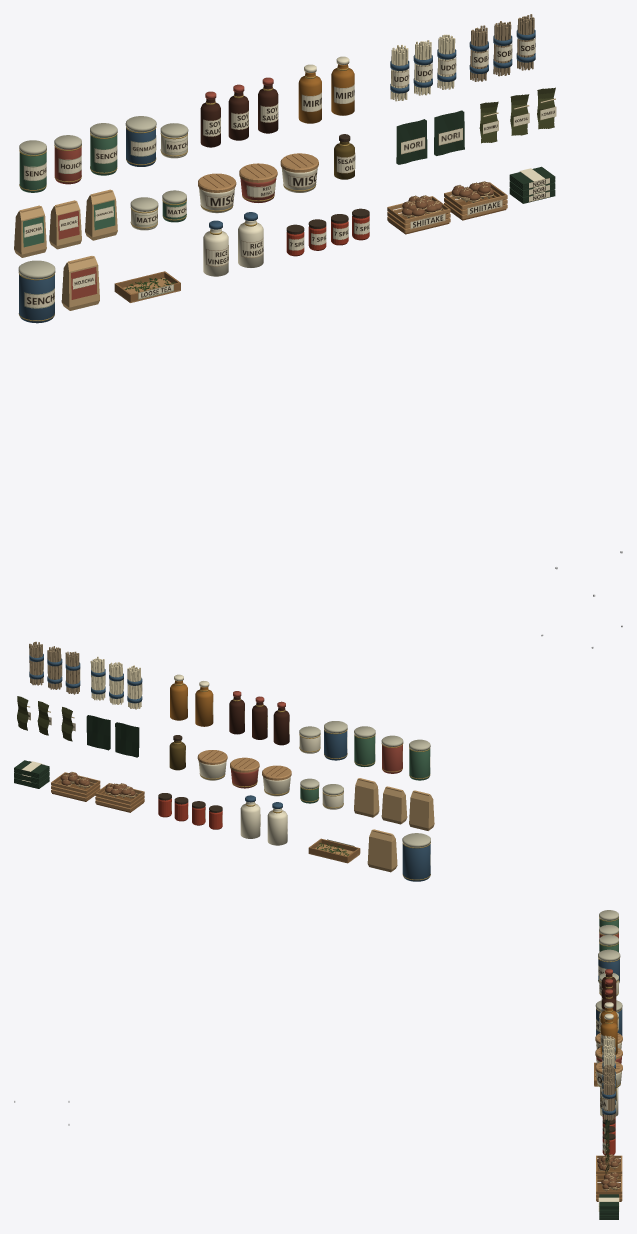
Rendered from japan_kit32_grocer_stock2.fbx.
3 renders of one model, top to bottom at view 1: azimuth 30°, elevation 25°; view 2: azimuth 150°, elevation 25°; view 3: azimuth 270°, elevation 25°, orthographic. The views are drawn at different scales.
Visible parts, largest first — view 1: GS2_TeaMid_Kraft, GS2_PantryTop_Soy, GS2_DryMid_Nori, GS2_PantryMid_CedarLight, GS2_TeaTop_Tin, GS2_TeaTop_Label, GS2_DryMid_Kombu, GS2_DryTop_Udon, GS2_DryTop_Soba, GS2_PantryTop_Amber, GS2_PantryTop_Label, GS2_PantryLow_Ivory (+17 smaller); view 2: GS2_TeaMid_Kraft, GS2_PantryTop_Soy, GS2_DryMid_Nori, GS2_DryTop_Soba, GS2_DryTop_Udon, GS2_PantryLow_Ivory, GS2_PantryTop_Amber, GS2_TeaTop_TeaGreen, GS2_PantryMid_CedarLight, GS2_TeaTop_Tin, GS2_TeaLow_Kraft, GS2_DryMid_Kombu (+16 smaller); view 3: GS2_TeaTop_Tin, GS2_DryTop_Soba, GS2_DryLow_Mushroom, GS2_PantryTop_Amber, GS2_DryLow_Nori.
Boxes of the visible parts, x1,y1,x2,y2 form: GS2_TeaMid_Kraft: (14, 190, 117, 257); GS2_PantryTop_Soy: (200, 84, 278, 147); GS2_DryMid_Nori: (396, 110, 464, 164); GS2_PantryMid_CedarLight: (198, 153, 318, 192); GS2_TeaTop_Tin: (19, 116, 188, 154); GS2_TeaTop_Label: (23, 135, 187, 180); GS2_DryMid_Kombu: (479, 87, 555, 143); GS2_DryTop_Udon: (390, 34, 455, 101); GS2_DryTop_Soba: (470, 14, 534, 81); GS2_PantryTop_Amber: (298, 64, 354, 123); GS2_PantryTop_Label: (203, 84, 354, 136); GS2_PantryLow_Ivory: (203, 220, 263, 276); GS2_TeaMid_Kraft: (354, 778, 434, 830); GS2_PantryTop_Soy: (229, 696, 289, 745); GS2_DryMid_Nori: (86, 715, 139, 757); GS2_DryTop_Soba: (29, 641, 79, 694); GS2_DryTop_Udon: (90, 656, 141, 709); GS2_PantryLow_Ivory: (240, 801, 287, 845); GS2_PantryTop_Amber: (170, 680, 213, 726); GS2_TeaTop_TeaGreen: (354, 735, 430, 780); GS2_PantryMid_CedarLight: (197, 750, 291, 780); GS2_TeaTop_Tin: (299, 721, 430, 750); GS2_TeaLow_Kraft: (367, 829, 397, 872); GS2_DryMid_Kombu: (17, 696, 72, 741); GS2_TeaTop_Tin: (598, 910, 620, 981); GS2_DryTop_Soba: (603, 1064, 615, 1120); GS2_DryLow_Mushroom: (597, 1154, 620, 1189); GS2_PantryTop_Amber: (600, 1007, 617, 1054); GS2_DryLow_Nori: (599, 1194, 618, 1219).
Bounding box in the file's own units: 16.45 × 5.81 × 22.39.
Materials: 26 (1 with a texture image).
